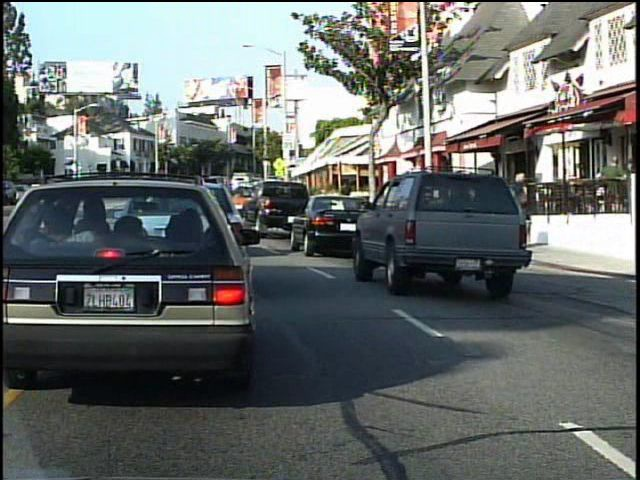person: (593, 150, 630, 233), (505, 165, 542, 237)
